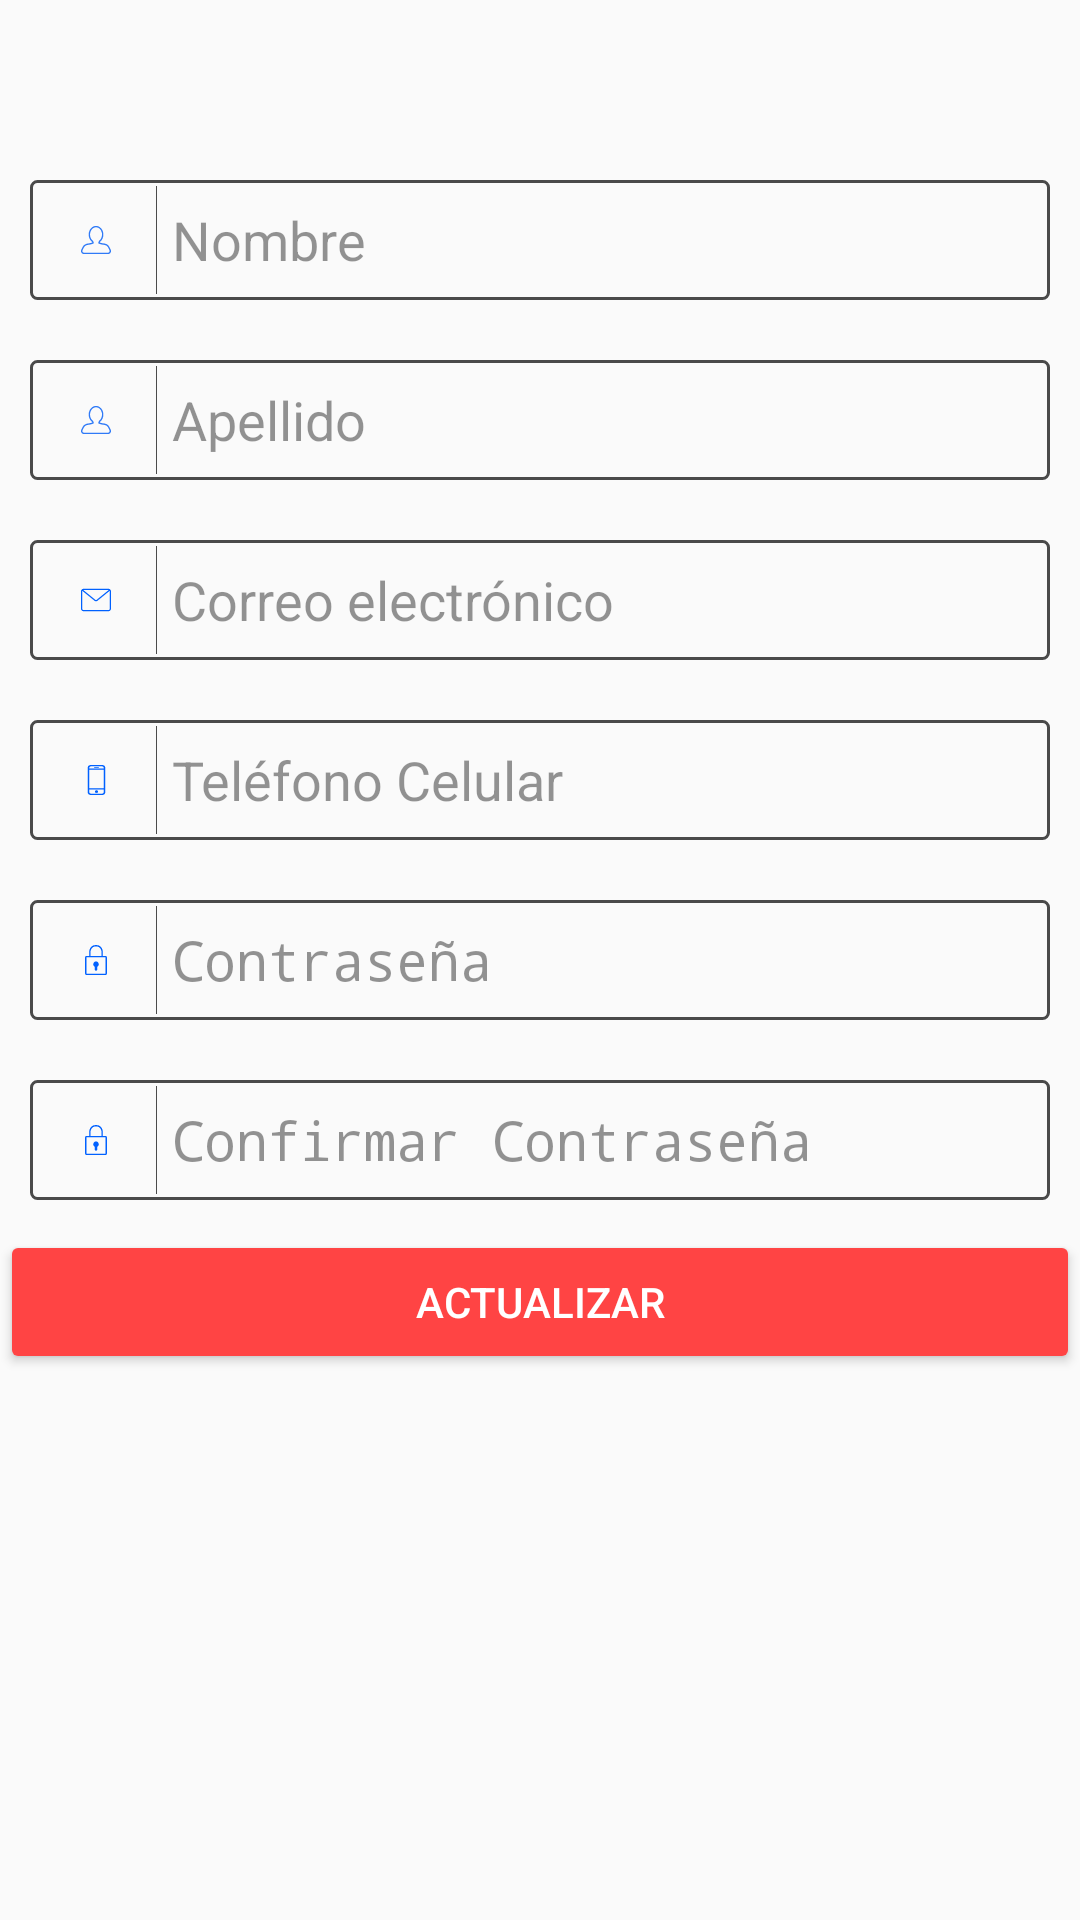

Screen size 1080×1920. Icon name, then its center in pixels as (x=x, y=y):
email: (x=96, y=600)
lock: (x=96, y=960), (x=96, y=1140)
mobile: (x=96, y=780)
user: (x=96, y=240), (x=96, y=420)
